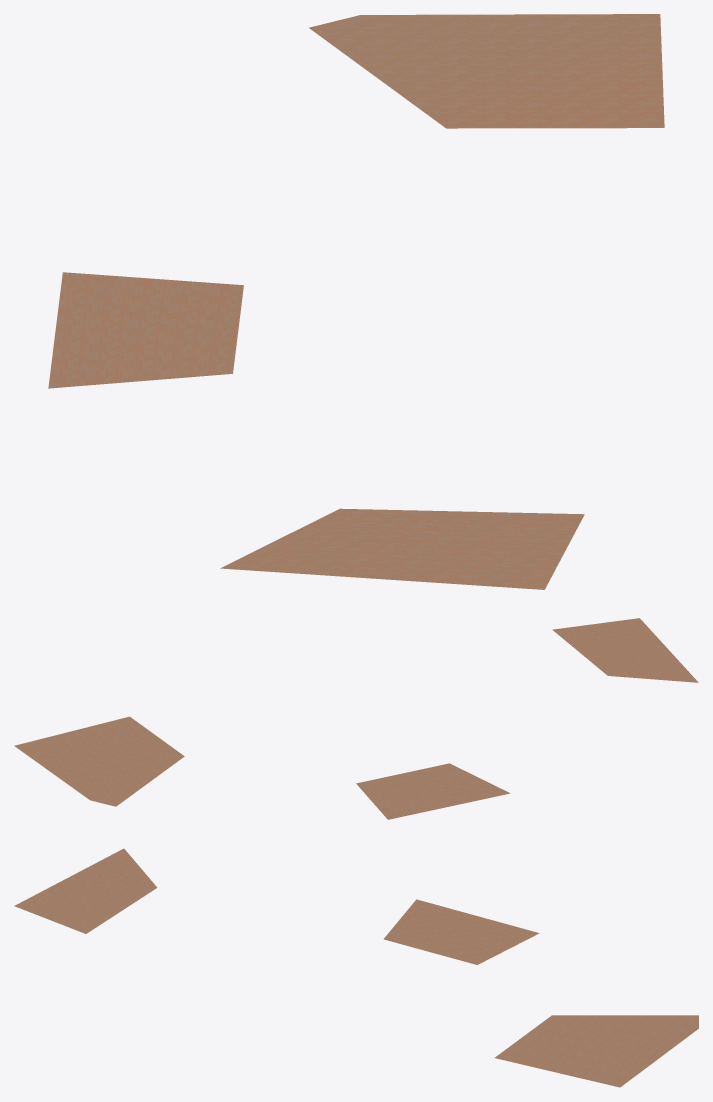
Rendered from kd_stage_1364a3_13_17_bounded.glb.
3 renders of one model, top to bottom at view 1: azimuth 30°, elevation 25°; view 2: azimuth 150°, elevation 25°; view 3: azimuth 270°, elevation 25°, orthographic. The views are drawn at different scales.
Visible parts, largest first — view 1: kd_stage_1364a3_13_17_bounded; view 2: kd_stage_1364a3_13_17_bounded; view 3: kd_stage_1364a3_13_17_bounded.
Part boxes in pixels (bbox=[...]): kd_stage_1364a3_13_17_bounded: bbox=[48, 14, 664, 589]; kd_stage_1364a3_13_17_bounded: bbox=[14, 618, 698, 819]; kd_stage_1364a3_13_17_bounded: bbox=[14, 848, 698, 1087].
Bounding box in the file's own units: 28.95 × 1.39 × 35.55.
Materials: 1 (1 with a texture image).
